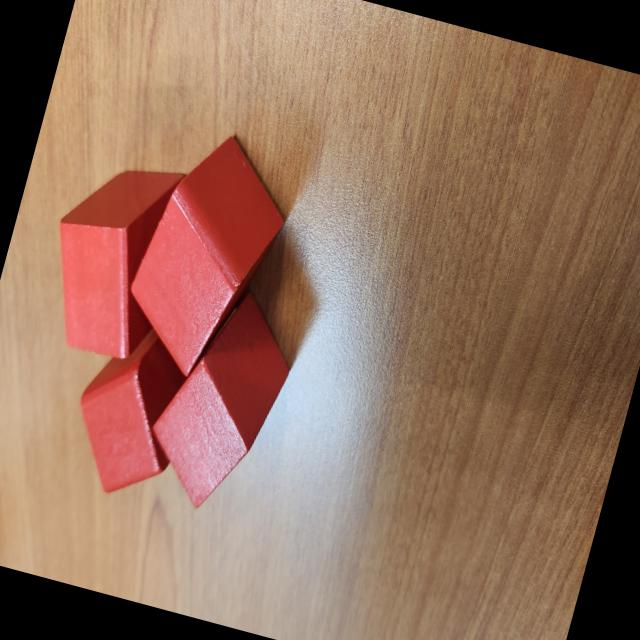red: (109, 120, 303, 392), (132, 274, 306, 522), (28, 146, 194, 367), (58, 311, 207, 508)
